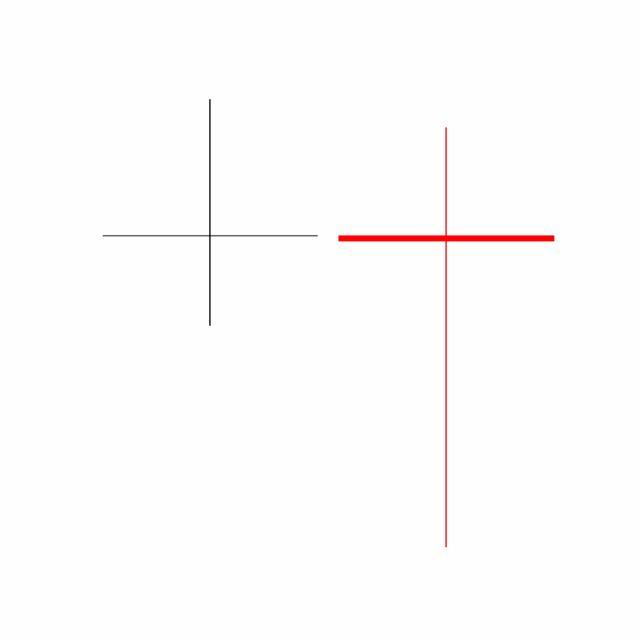Spinning Top: (328, 123, 566, 553)
